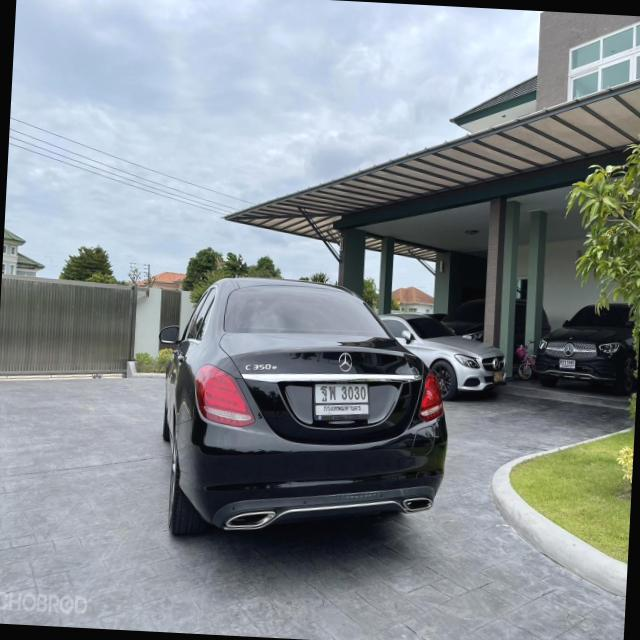license_plate: (311, 377, 374, 422), (558, 354, 578, 374), (493, 367, 506, 384)
